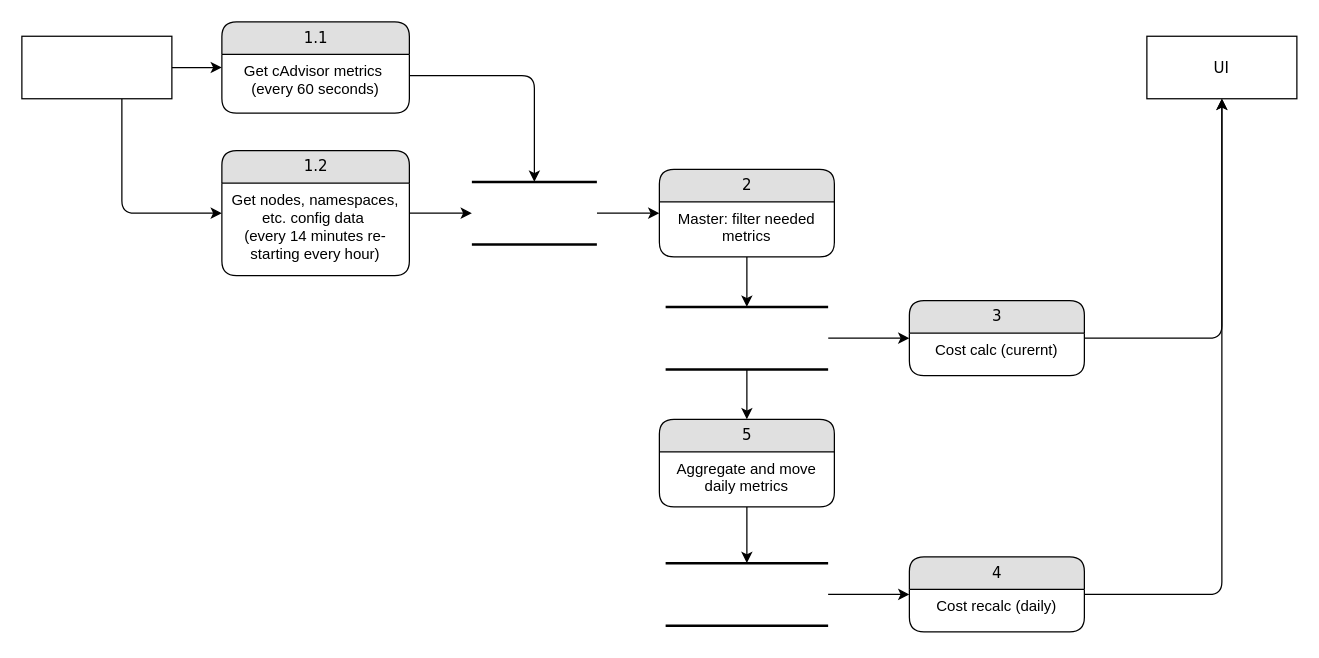
The diagram is 1319 pixels wide and 658 high, and some of its shapes have lost their labels. Each missing label, with the centre of its shape:
"Agent" goes at point 534,212.
"Kubernetes API" goes at point 96,67.
"Postgre (current)" goes at point 746,337.
"Postgre (daily)" goes at point 746,593.
